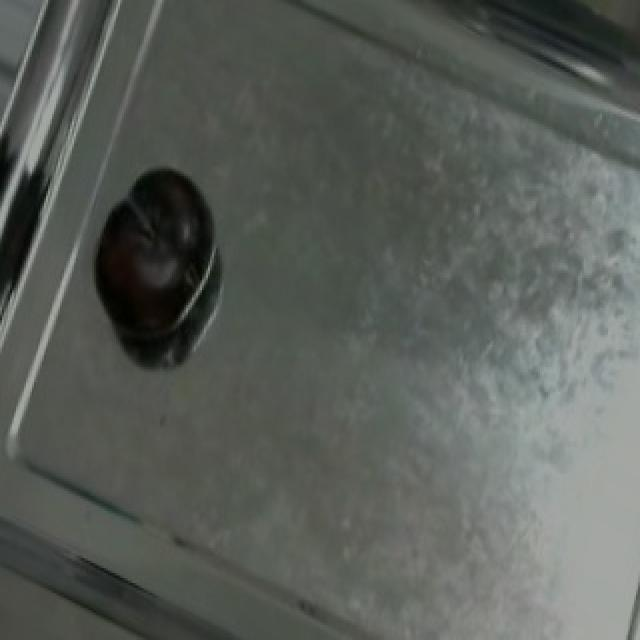Fruit: (76, 149, 232, 362)
